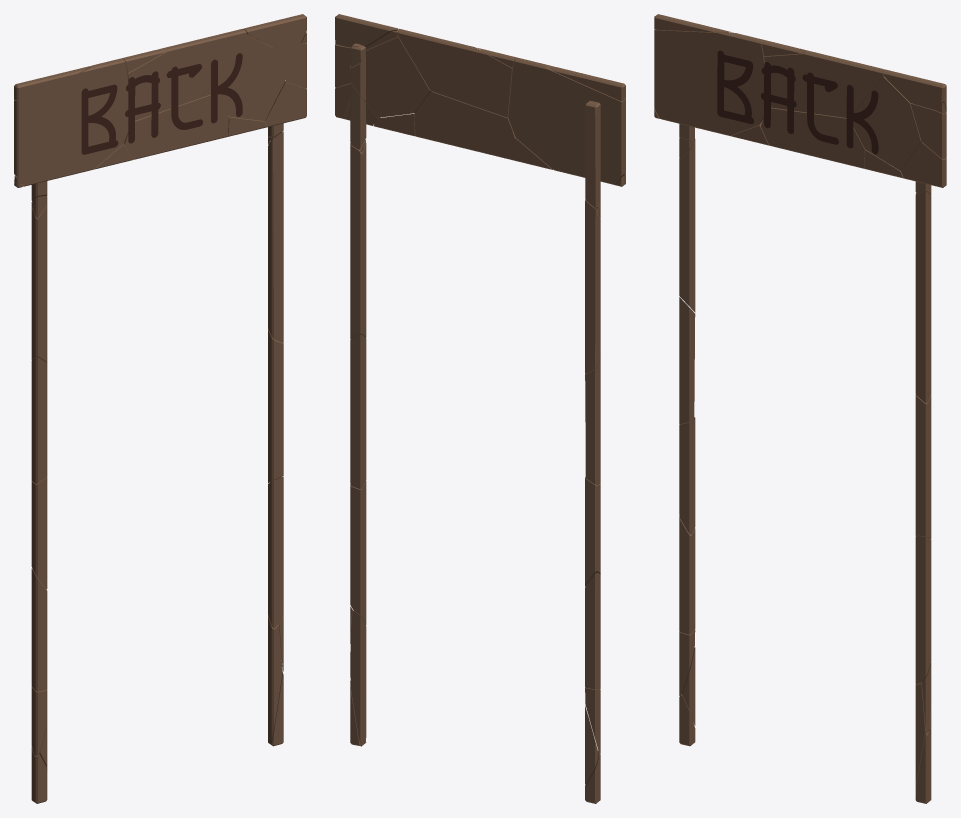
File: bsign-back.fbx
3 views of the same model, side by side, from view 1: azimuth 30°, elevation 25°; view 2: azimuth 150°, elevation 25°; view 3: azimuth 330°, elevation 25° (orthographic).
Visible parts, largest first — view 1: sign_back01.001_cell.037, sign_back01.001_cell.018, sign_back01.001_cell.024, sign_back01.001_cell.008, sign_back01.001_cell.030, sign_back01.001_cell.005, sign_back01.001_cell.017, sign_back01.001_cell.032, sign_back01.001_cell.003, sign_back01.001_cell.014, sign_back01.001_cell.006, sign_back01.001_cell.021 (+8 smaller); view 2: sign_back01.001_cell.037, sign_back01.001_cell.018, sign_back01.001_cell.024, sign_back01.001_cell.008, sign_back01.001_cell.030, sign_back01.001_cell.005, sign_back01.001_cell.032, sign_back01.001_cell.017, sign_back01.001_cell.002, sign_back01.001_cell.003, sign_back01.001_cell.014, sign_back01.001_cell.006 (+10 smaller); view 3: sign_back01.001_cell.037, sign_back01.001_cell.018, sign_back01.001_cell.024, sign_back01.001_cell.030, sign_back01.001_cell.008, sign_back01.001_cell.005, sign_back01.001_cell.017, sign_back01.001_cell.032, sign_back01.001_cell.003, sign_back01.001_cell.006, sign_back01.001_cell.014, sign_back01.001_cell.021 (+8 smaller).
Part boxes in pixels (box(x1,y1,x2,y2)): sign_back01.001_cell.037: box(14, 58, 128, 201); sign_back01.001_cell.018: box(125, 29, 247, 143); sign_back01.001_cell.024: box(211, 34, 284, 123); sign_back01.001_cell.008: box(124, 94, 228, 159); sign_back01.001_cell.030: box(268, 131, 283, 342); sign_back01.001_cell.005: box(31, 201, 47, 363); sign_back01.001_cell.017: box(268, 476, 283, 628); sign_back01.001_cell.032: box(268, 329, 283, 483); sign_back01.001_cell.003: box(31, 357, 47, 483); sign_back01.001_cell.014: box(31, 568, 47, 691); sign_back01.001_cell.006: box(31, 476, 47, 588); sign_back01.001_cell.021: box(243, 14, 306, 48); sign_back01.001_cell.037: box(508, 58, 625, 208); sign_back01.001_cell.018: box(397, 28, 512, 117); sign_back01.001_cell.024: box(350, 34, 431, 117); sign_back01.001_cell.008: box(414, 91, 516, 158); sign_back01.001_cell.030: box(350, 139, 366, 338); sign_back01.001_cell.005: box(585, 200, 600, 373); sign_back01.001_cell.032: box(350, 334, 366, 489); sign_back01.001_cell.017: box(350, 481, 366, 625); sign_back01.001_cell.002: box(350, 610, 366, 746); sign_back01.001_cell.003: box(585, 357, 600, 485); sign_back01.001_cell.014: box(585, 572, 600, 689); sign_back01.001_cell.006: box(585, 477, 600, 586); sign_back01.001_cell.037: box(654, 29, 765, 142); sign_back01.001_cell.018: box(761, 48, 883, 144); sign_back01.001_cell.024: box(846, 75, 921, 170); sign_back01.001_cell.030: box(915, 192, 931, 403); sign_back01.001_cell.008: box(760, 107, 865, 168); sign_back01.001_cell.005: box(679, 138, 695, 312); sign_back01.001_cell.017: box(915, 536, 931, 683); sign_back01.001_cell.032: box(915, 393, 931, 539); sign_back01.001_cell.003: box(679, 297, 695, 423); sign_back01.001_cell.006: box(679, 417, 695, 534); sign_back01.001_cell.014: box(679, 515, 695, 634); sign_back01.001_cell.021: box(883, 69, 946, 110).
Bounding box in the file's own units: 92.94 × 222 × 4.88.
